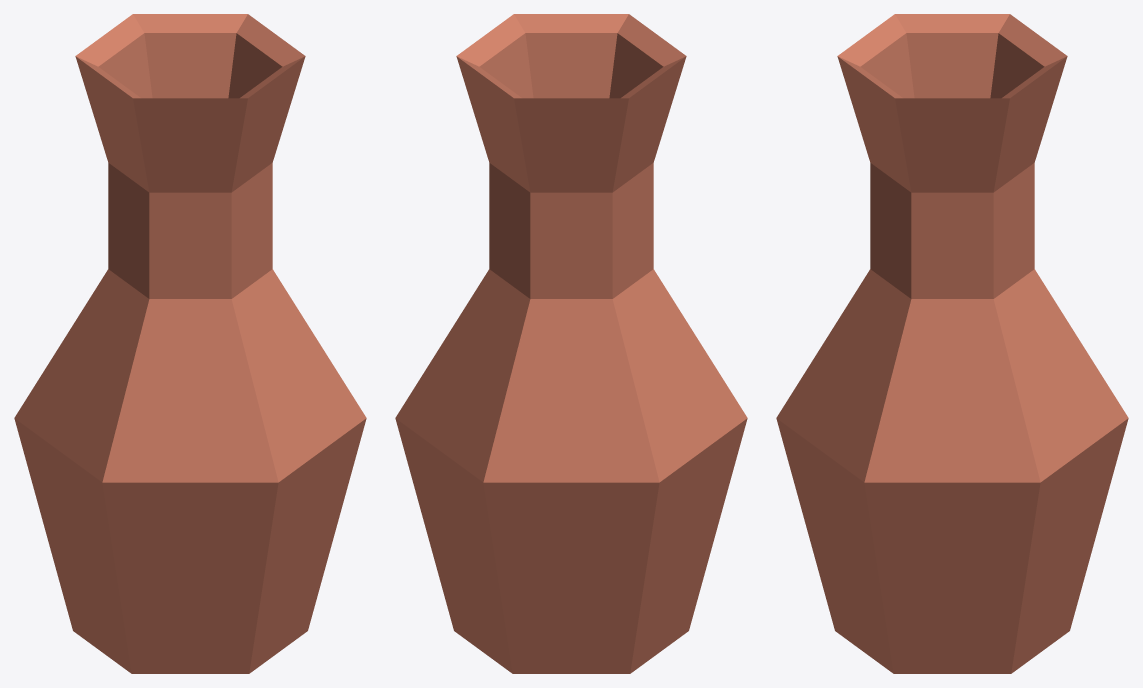
Rendered from Vase3.fbx.
The picture shows the model from 3 angles, left to right: view 1: azimuth 30°, elevation 25°; view 2: azimuth 150°, elevation 25°; view 3: azimuth 270°, elevation 25°; orthographic projection.
Visible parts, largest first — view 1: Cylinder; view 2: Cylinder; view 3: Cylinder.
Boxes of the visible parts, <box> form: Cylinder: <box>14,14,366,673</box>; Cylinder: <box>395,14,747,673</box>; Cylinder: <box>776,14,1128,673</box>.
Size of the model in its own units: 0.2858 by 0.594 by 0.33.
